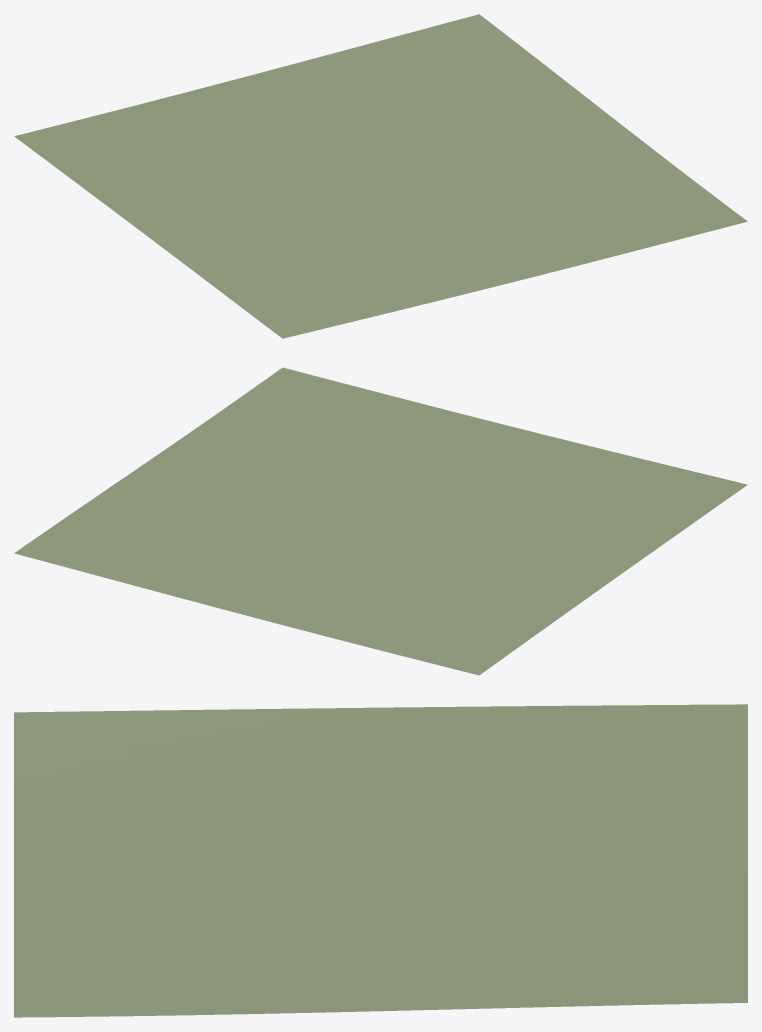
Rendered from desert-18-23.glb.
3 views of the same model, one above another, from view 1: azimuth 30°, elevation 25°; view 2: azimuth 150°, elevation 25°; view 3: azimuth 270°, elevation 25° (orthographic). The views are drawn at different scales.
Visible parts, largest first — view 1: desert-18-23; view 2: desert-18-23; view 3: desert-18-23.
Part boxes in pixels (left/top/right/bottom): desert-18-23: left=14, top=14, right=747, bottom=338; desert-18-23: left=14, top=367, right=747, bottom=675; desert-18-23: left=14, top=704, right=747, bottom=1017.
Bounding box in the file's own units: 512 × 15.24 × 512.
